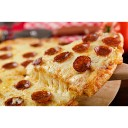pepperonipizza: (1, 38, 117, 105)
